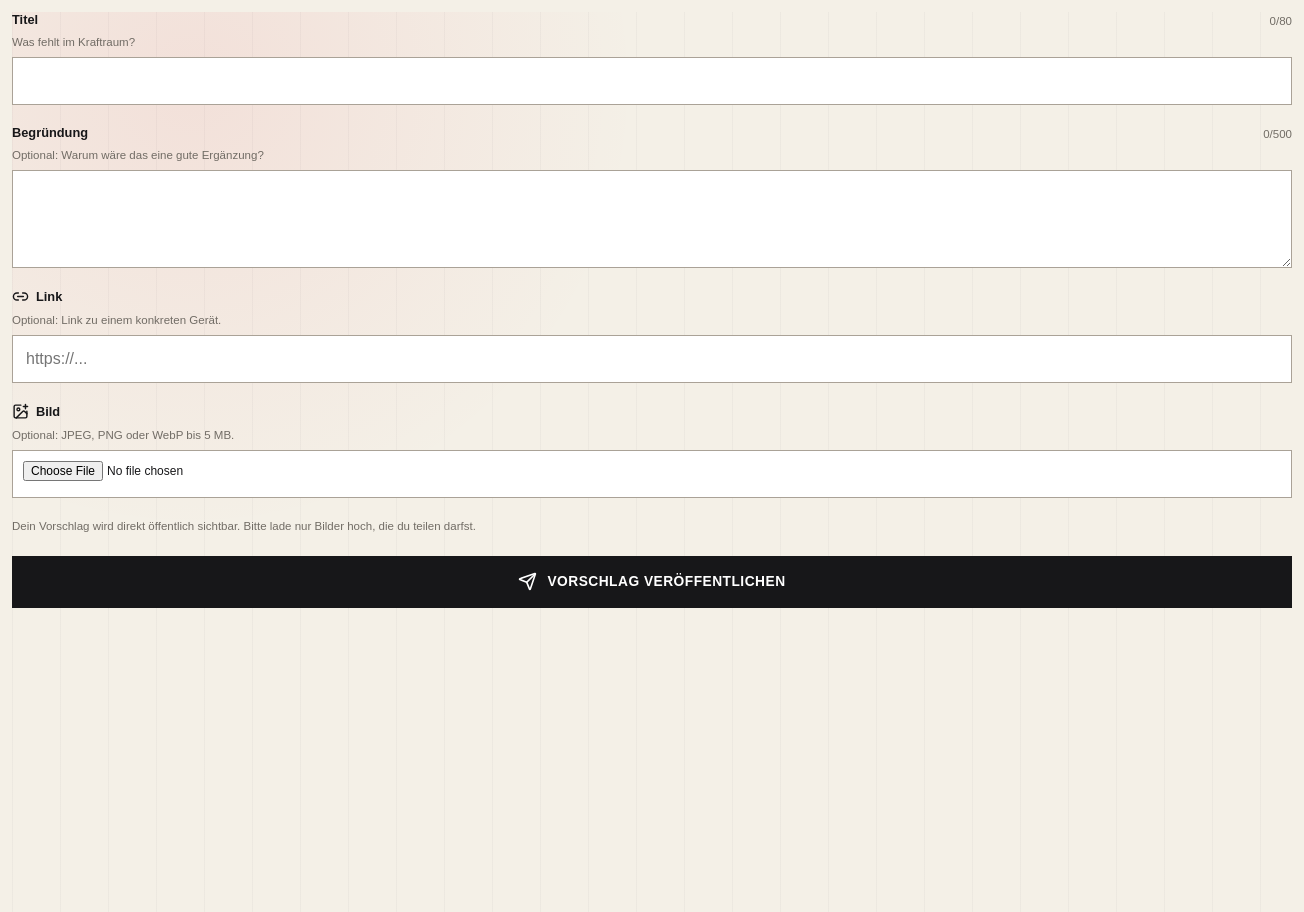
Test case: SuggestionForm › shows inline validation errors for incomplete input
Click the button "Vorschlag veröffentlichen".
click(652, 582)  # box [12,556,1292,608]
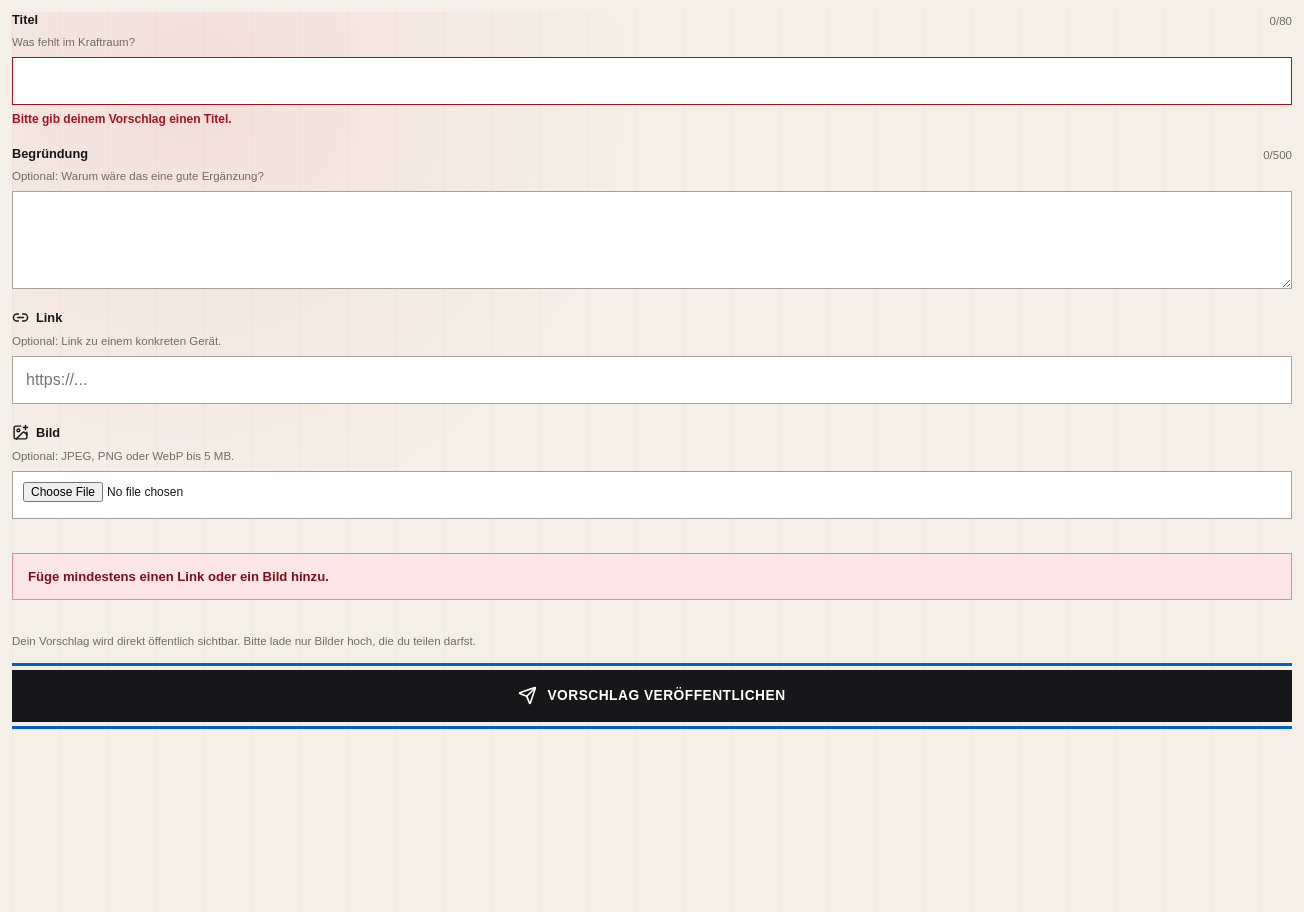
expect the text "Bitte gib deinem Vorschlag einen Titel." is shown: met, box [12,112,232,126]
expect the text "Füge mindestens einen Link oder ein Bild hinzu." is shown: met, box [12,552,1292,600]
